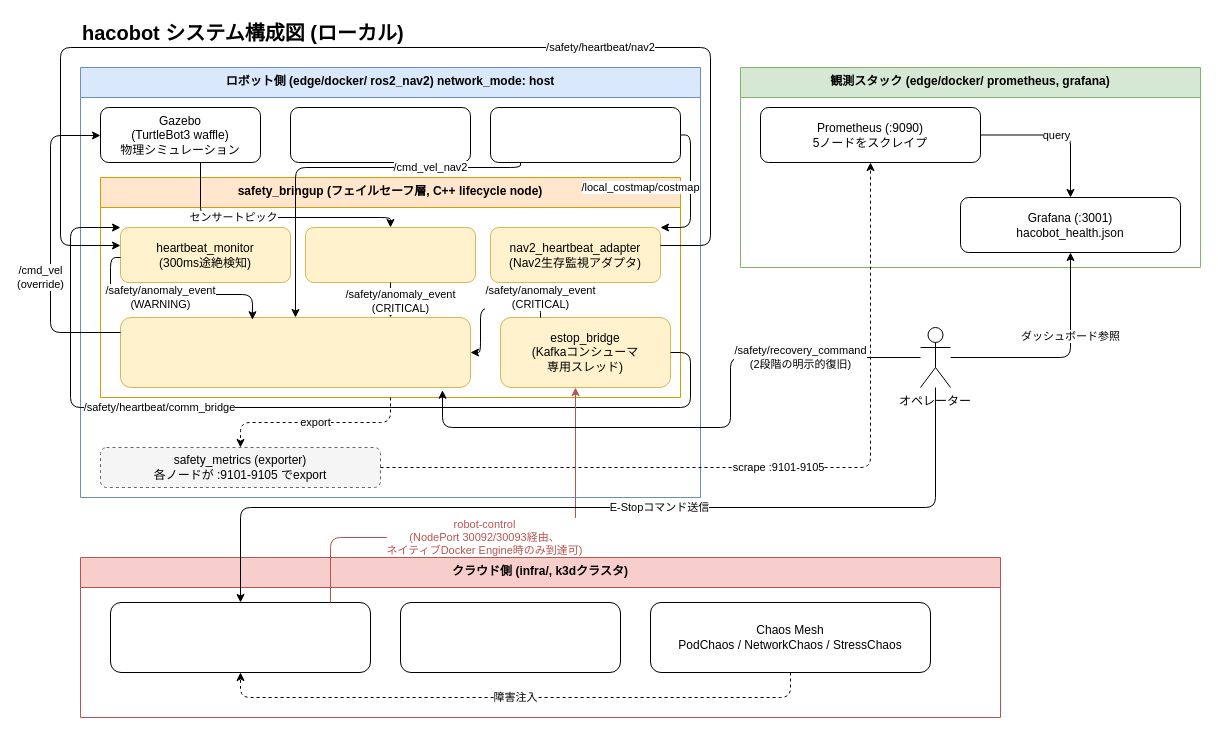
Some shapes in this 1218 by 735 pixel diagram are drawn without their labels. Each missing label, with the centre of its shape:
"Nav2 (planner/controller/ bt_navigator 等)" goes at (x=585, y=134).
"safety_state_machine NORMAL / DEGRADED / SAFE_STOP / MANUAL_RECOVERY" goes at (x=295, y=352).
"SeaweedFS テレメトリ永続化 (S3互換)" goes at (x=510, y=637).
"slam_toolbox (オンラインSLAM)" goes at (x=380, y=134).
"Strimzi Kafka robot-telemetry / robot-control NodePort 30092/30093" goes at (x=240, y=637).
"watchdog (センサー途絶500ms)" goes at (x=390, y=254).
